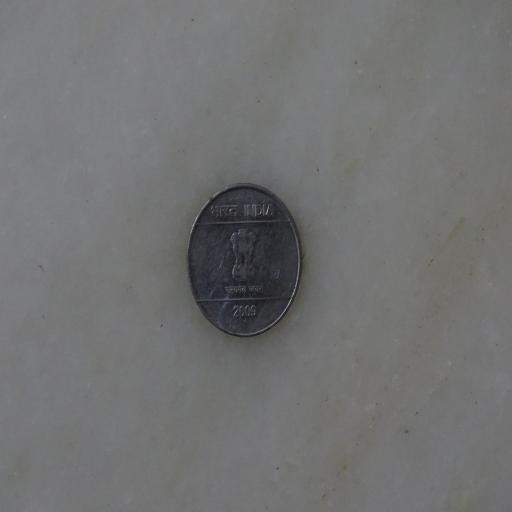rupee2: (184, 181, 309, 344)
